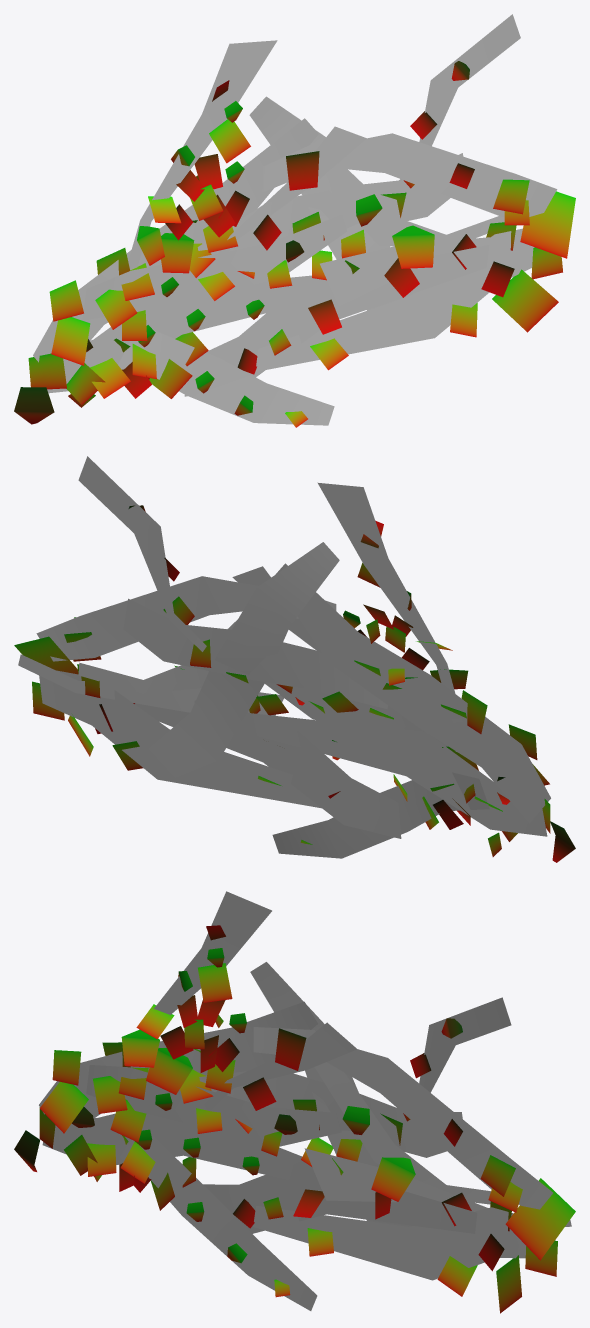
The model's file is lierre_var_5_lod.fbx.
3 renders of one model, top to bottom at view 1: azimuth 30°, elevation 25°; view 2: azimuth 150°, elevation 25°; view 3: azimuth 330°, elevation 25°, orthographic.
Parts seen in each view (by area): view 1: _084c_Var5_LOD3; view 2: _084c_Var5_LOD3; view 3: _084c_Var5_LOD3.
Part boxes in pixels (x1,y1,x2,y2): _084c_Var5_LOD3: (14, 14, 575, 427); _084c_Var5_LOD3: (14, 456, 575, 862); _084c_Var5_LOD3: (14, 891, 575, 1313).
Bounding box in the file's own units: 83.73 × 56.45 × 6.42.
